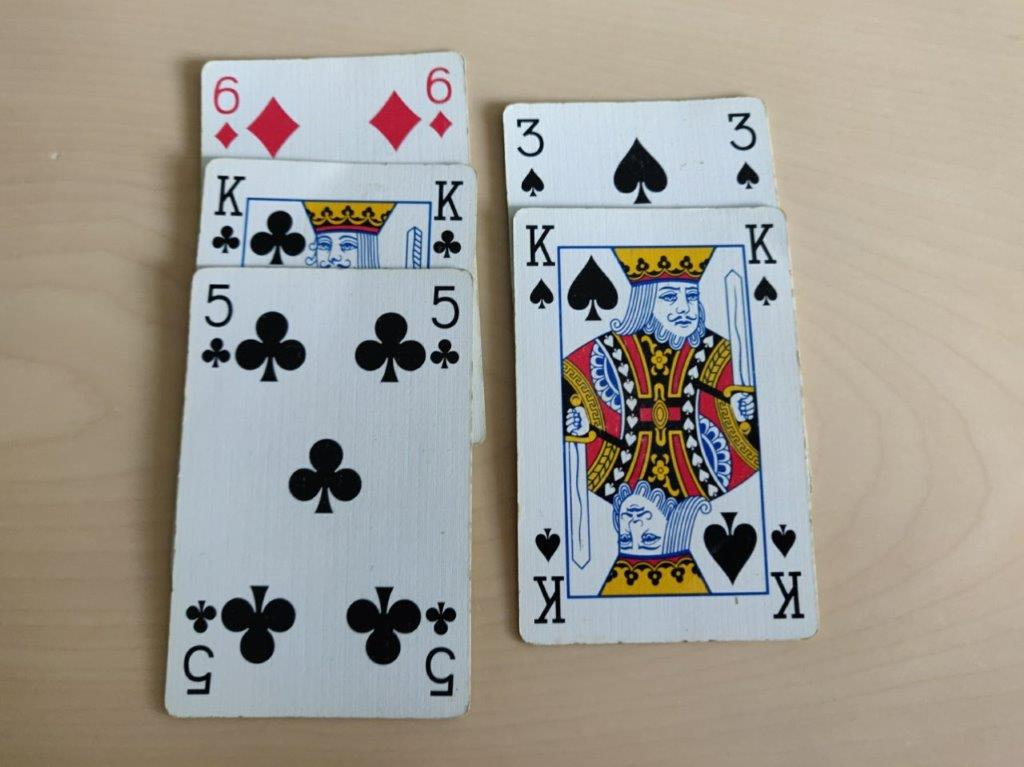3S: (508, 106, 551, 202), (722, 104, 765, 200)
5C: (194, 275, 235, 372), (427, 281, 468, 378)
6D: (204, 67, 243, 157), (422, 61, 461, 151)
KC: (205, 165, 247, 263), (428, 169, 470, 267)
KS: (517, 210, 560, 311), (742, 216, 785, 317)
